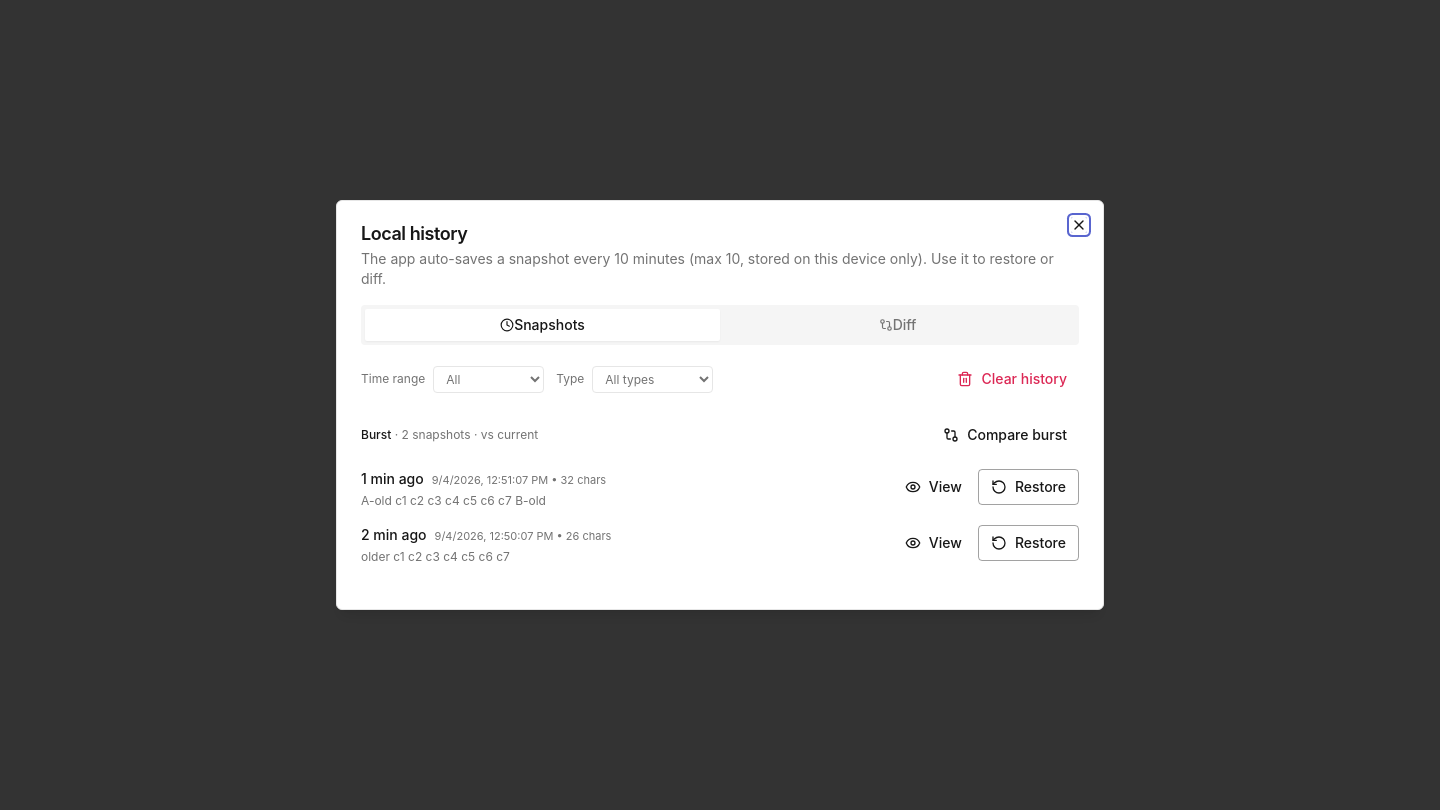
Test: HistoryDialog selective restore › does not restore hunks when the new side is not the live note
The width and height of the screenshot is (1440, 810).
Later steps or results of the test are not shown.
Expected: the text "Burst" is shown, [361, 427, 391, 442]
Click the button "Compare burst" at x=1005, y=435, box [931, 417, 1079, 453]
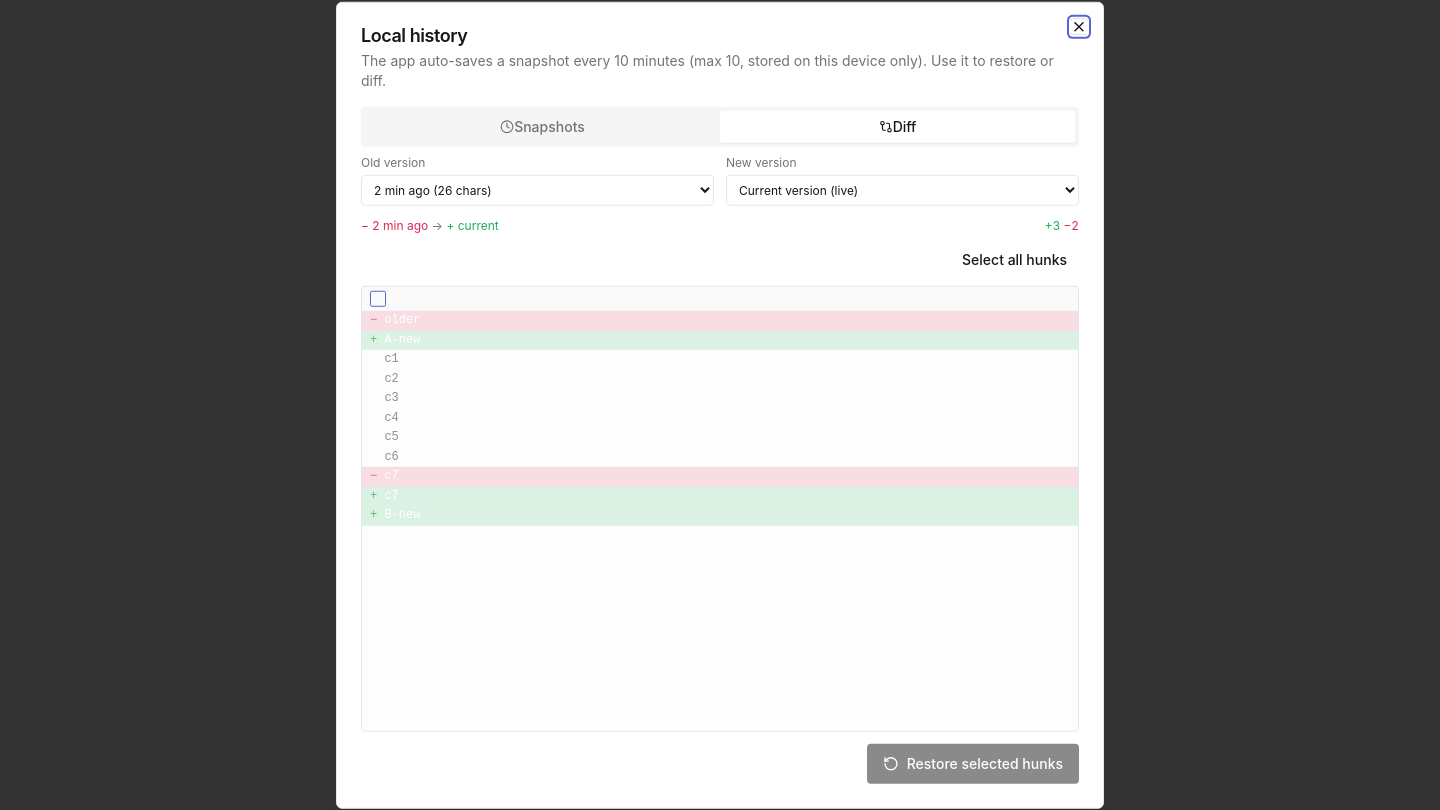
Now the checkbox is shown, box [370, 291, 386, 307]
Select "1 min ago (32 chars)" in the dropdown with test id "history-diff-new" at x=902, y=190, box [726, 175, 1079, 206]
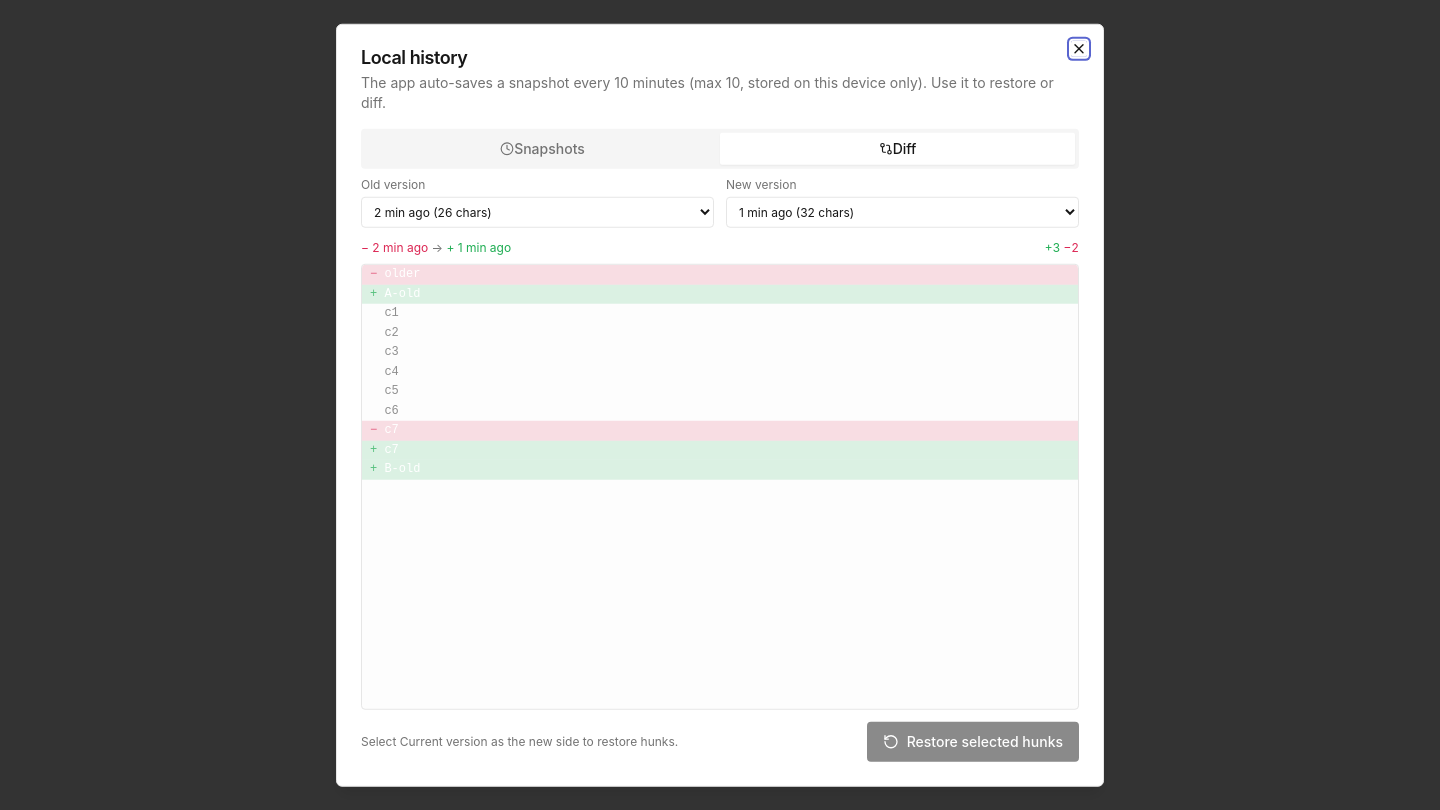
Now the button "Restore selected hunks" is disabled, box [867, 721, 1079, 761]
Now no checkboxes are shown
